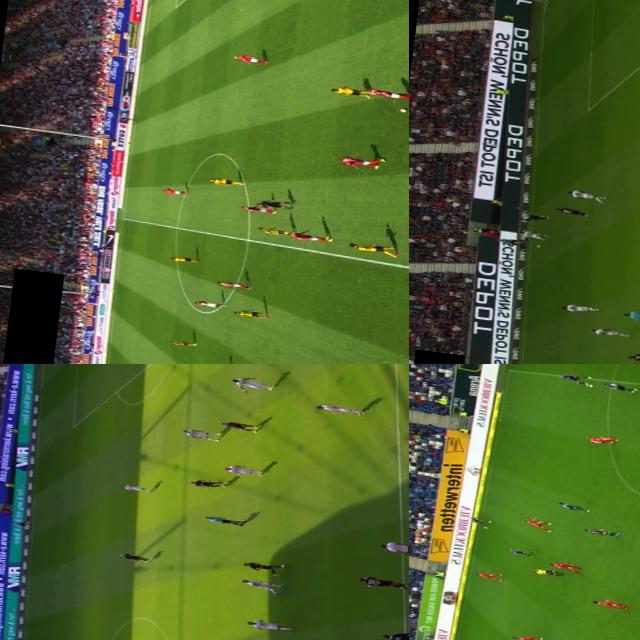ball: (357, 576, 374, 584), (394, 105, 409, 114), (582, 381, 596, 388), (533, 242, 543, 248)
player: (226, 370, 278, 396), (240, 613, 296, 635), (352, 570, 408, 592), (235, 573, 291, 595), (236, 555, 286, 577), (308, 400, 368, 418), (344, 240, 396, 254), (564, 185, 606, 202), (178, 424, 220, 441), (586, 324, 630, 340), (222, 462, 263, 479), (288, 228, 334, 243), (338, 153, 380, 169), (580, 522, 622, 538), (365, 86, 409, 101), (558, 298, 599, 314), (327, 83, 372, 97), (551, 498, 596, 512), (236, 200, 275, 216), (215, 418, 258, 432), (589, 597, 634, 610), (515, 226, 550, 242), (583, 431, 620, 446), (230, 51, 269, 65), (185, 476, 227, 489), (118, 550, 156, 564), (600, 380, 638, 394), (118, 480, 154, 494), (549, 204, 590, 216), (550, 559, 585, 573), (556, 372, 594, 384), (255, 224, 292, 236), (518, 210, 552, 223), (523, 516, 554, 530), (216, 278, 252, 290), (189, 298, 224, 310), (235, 308, 268, 320), (206, 176, 242, 186), (508, 545, 537, 556), (464, 517, 495, 527), (168, 338, 198, 348), (474, 570, 504, 580), (512, 631, 545, 640), (170, 254, 199, 264), (622, 349, 640, 364), (161, 187, 187, 195), (520, 634, 552, 640)
